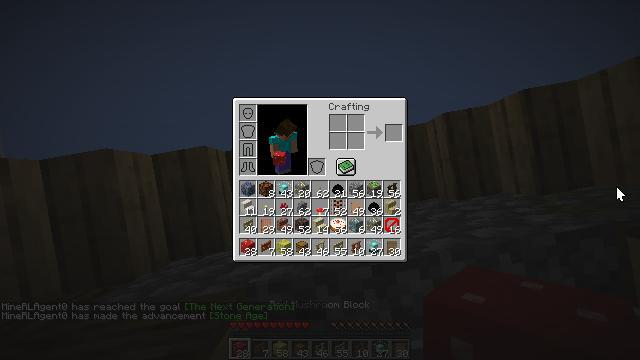cursor: (616, 186, 626, 202)
